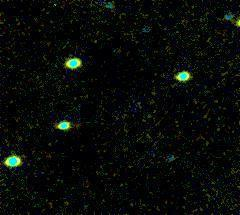star: (222, 13, 240, 43)
